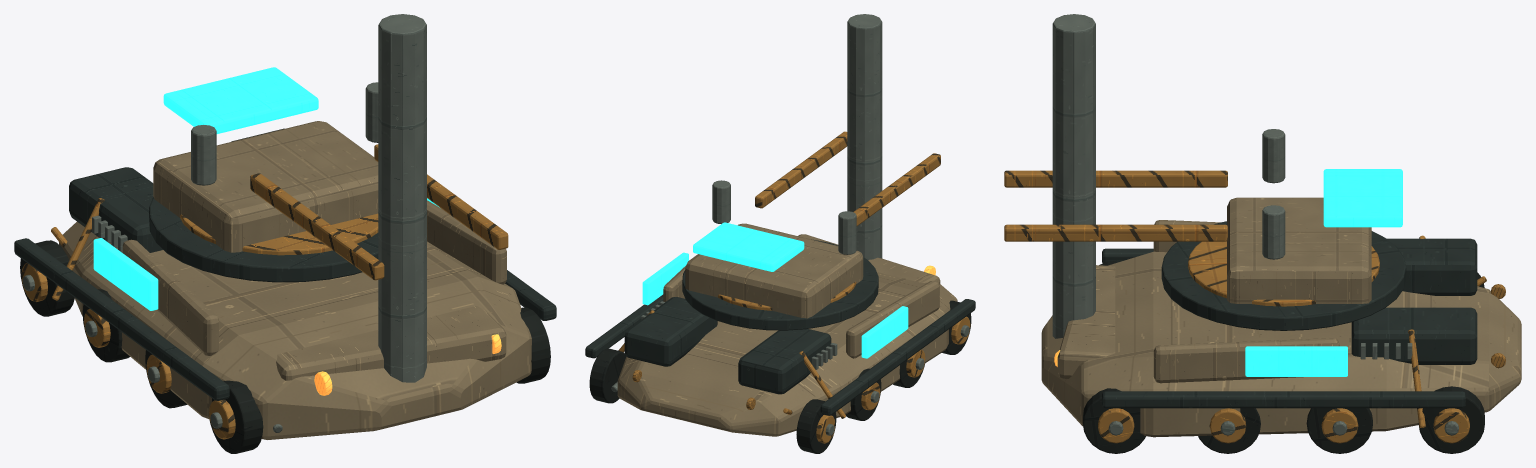
The model's file is drift_siege.glb.
3 renders of one model, left to right at view 1: azimuth 30°, elevation 25°; view 2: azimuth 150°, elevation 25°; view 3: azimuth 270°, elevation 25°, orthographic. The views are drawn at different scales.
Visible parts, largest first — view 1: Wanderpakt · low angular field chassis, Raised armored traversing turret, Extended siege cannon, Faction detail · Vehicle / armor_light.002, Faction detail · Vehicle / dark.002, Faction detail · Vehicle / hazard.001, Independent traverse race, TeamColor, Faction detail · Vehicle / rubber.002, Faction detail · Vehicle / hazard.002, TeamColor flank details, Faction detail · Vehicle / steel.001 (+2 smaller); view 2: Wanderpakt · low angular field chassis, Faction detail · Vehicle / dark.002, Raised armored traversing turret, Extended siege cannon, Independent traverse race, Faction detail · Vehicle / rubber.002, Faction detail · Vehicle / hazard.001, Faction detail · Vehicle / armor_light.002, TeamColor, TeamColor flank details, Faction detail · Vehicle / hazard.002, Faction detail · Vehicle / steel.001 (+1 smaller); view 3: Wanderpakt · low angular field chassis, Faction detail · Vehicle / dark.002, Extended siege cannon, Raised armored traversing turret, Faction detail · Vehicle / hazard.001, Faction detail · Vehicle / armor_light.002, Independent traverse race, Faction detail · Vehicle / rubber.002, TeamColor, Faction detail · Vehicle / hazard.002, TeamColor flank details, Faction detail · Vehicle / steel.001 (+1 smaller).
Part boxes in pixels (x1=…): Wanderpakt · low angular field chassis: x1=59, y1=222, x2=531, y2=439; Raised armored traversing turret: x1=153, y1=121, x2=378, y2=252; Extended siege cannon: x1=378, y1=14, x2=426, y2=382; Faction detail · Vehicle / armor_light.002: x1=122, y1=200, x2=506, y2=380; Faction detail · Vehicle / dark.002: x1=14, y1=128, x2=556, y2=400; Faction detail · Vehicle / hazard.001: x1=180, y1=144, x2=508, y2=280; Independent traverse race: x1=149, y1=197, x2=378, y2=282; TeamColor: x1=163, y1=67, x2=318, y2=133; Faction detail · Vehicle / rubber.002: x1=20, y1=240, x2=550, y2=453; Faction detail · Vehicle / hazard.002: x1=21, y1=198, x2=235, y2=439; TeamColor flank details: x1=93, y1=198, x2=439, y2=310; Faction detail · Vehicle / steel.001: x1=191, y1=82, x2=378, y2=185; Wanderpakt · low angular field chassis: x1=617, y1=272, x2=957, y2=436; Faction detail · Vehicle / dark.002: x1=585, y1=294, x2=975, y2=415; Raised armored traversing turret: x1=685, y1=223, x2=863, y2=318; Extended siege cannon: x1=847, y1=14, x2=882, y2=259; Independent traverse race: x1=682, y1=239, x2=878, y2=330; Faction detail · Vehicle / rubber.002: x1=589, y1=300, x2=971, y2=453; Faction detail · Vehicle / hazard.001: x1=718, y1=131, x2=940, y2=310; Faction detail · Vehicle / armor_light.002: x1=663, y1=234, x2=940, y2=358; TeamColor: x1=693, y1=222, x2=804, y2=271; TeamColor flank details: x1=642, y1=252, x2=908, y2=358; Faction detail · Vehicle / hazard.002: x1=618, y1=310, x2=970, y2=443; Faction detail · Vehicle / steel.001: x1=712, y1=180, x2=856, y2=254; Wanderpakt · low angular field chassis: x1=1041, y1=251, x2=1521, y2=437; Faction detail · Vehicle / dark.002: x1=1102, y1=238, x2=1477, y2=408; Extended siege cannon: x1=1052, y1=14, x2=1095, y2=338; Raised armored traversing turret: x1=1227, y1=197, x2=1371, y2=303; Faction detail · Vehicle / hazard.001: x1=1004, y1=170, x2=1379, y2=306; Faction detail · Vehicle / armor_light.002: x1=1057, y1=220, x2=1339, y2=383; Independent traverse race: x1=1161, y1=221, x2=1406, y2=330; Faction detail · Vehicle / rubber.002: x1=1083, y1=261, x2=1484, y2=453; TeamColor: x1=1323, y1=169, x2=1402, y2=227; Faction detail · Vehicle / hazard.002: x1=1098, y1=235, x2=1486, y2=443; TeamColor flank details: x1=1245, y1=346, x2=1347, y2=376; Faction detail · Vehicle / steel.001: x1=1262, y1=129, x2=1285, y2=259.
Size of the model in its own units: 2.76 by 3.15 by 4.05.
9 materials, 9 textured.
